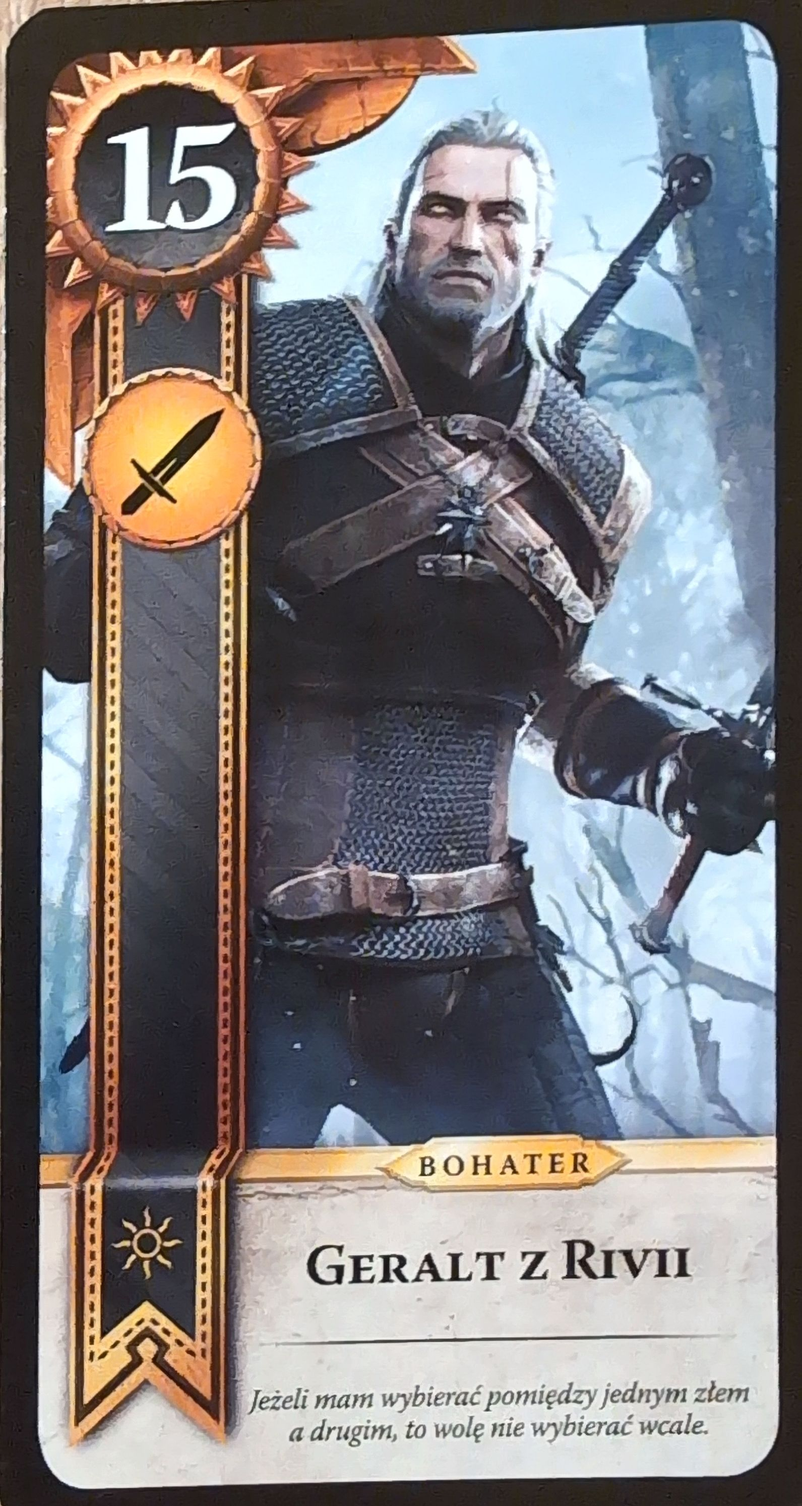15: (45, 48, 314, 324)
bohater: (381, 1133, 631, 1196)
miecz: (79, 368, 261, 553)
